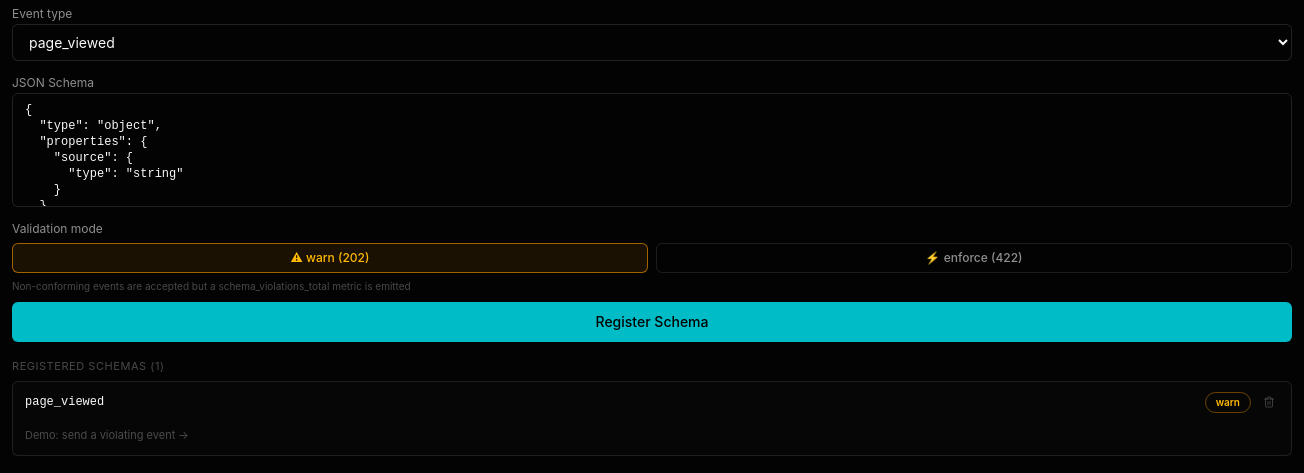
Test: SchemaPanel › removes schema from list on delete and shows empty state
Expected: the text "Registered schemas (1)" is shown, top-left (12, 359), bottom-right (164, 373)
Click the button named "Delete schema for page_viewed": [1269, 402] box top-left (1259, 392), bottom-right (1279, 412)
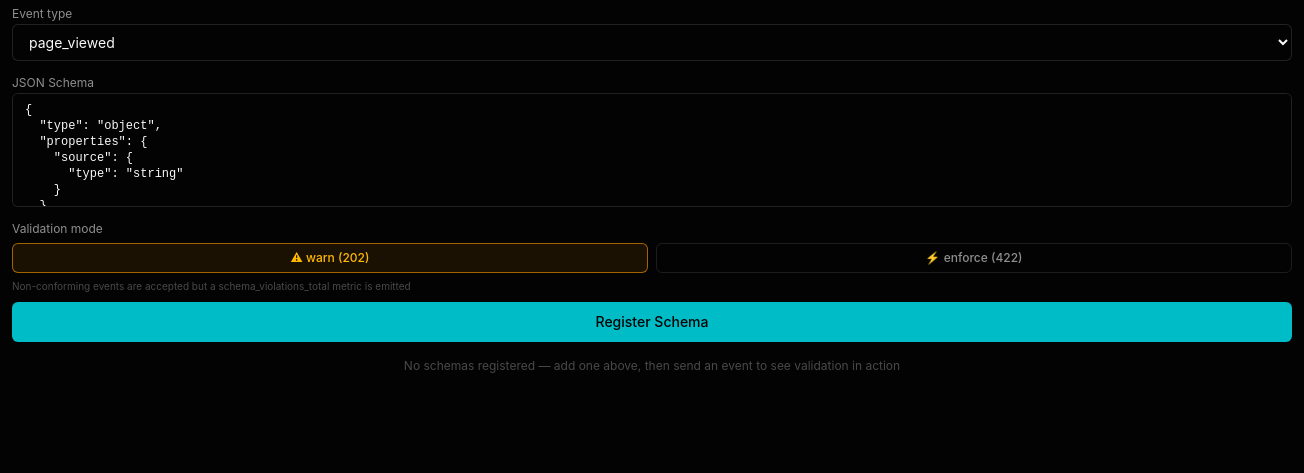
Result: the text "No schemas registered" is shown at top-left (404, 358), bottom-right (900, 373)
